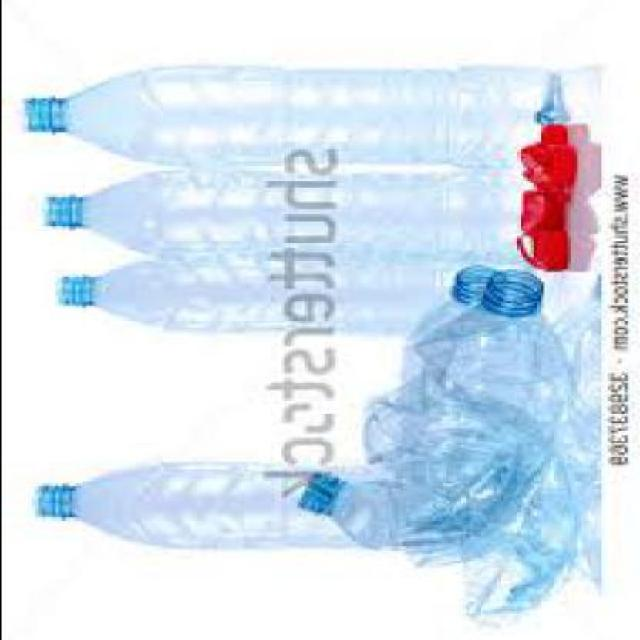PLASTIC: (20, 60, 552, 175), (384, 270, 562, 558), (37, 162, 515, 260), (296, 469, 582, 618), (28, 457, 430, 546), (54, 254, 498, 334), (351, 265, 502, 469), (516, 142, 570, 188), (516, 227, 570, 267), (516, 190, 556, 227), (535, 123, 560, 149)
